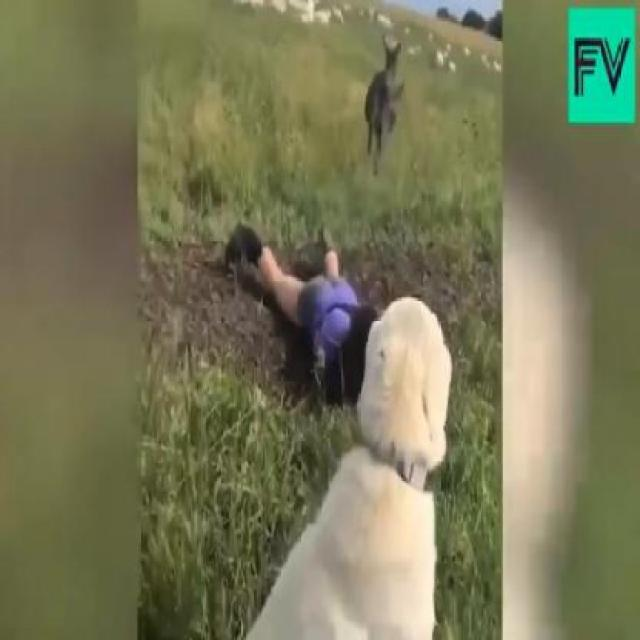fall: (232, 223, 376, 392)
